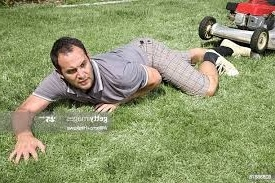fall: (8, 31, 255, 163)
